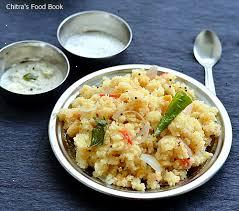upma: (69, 72, 221, 186)
